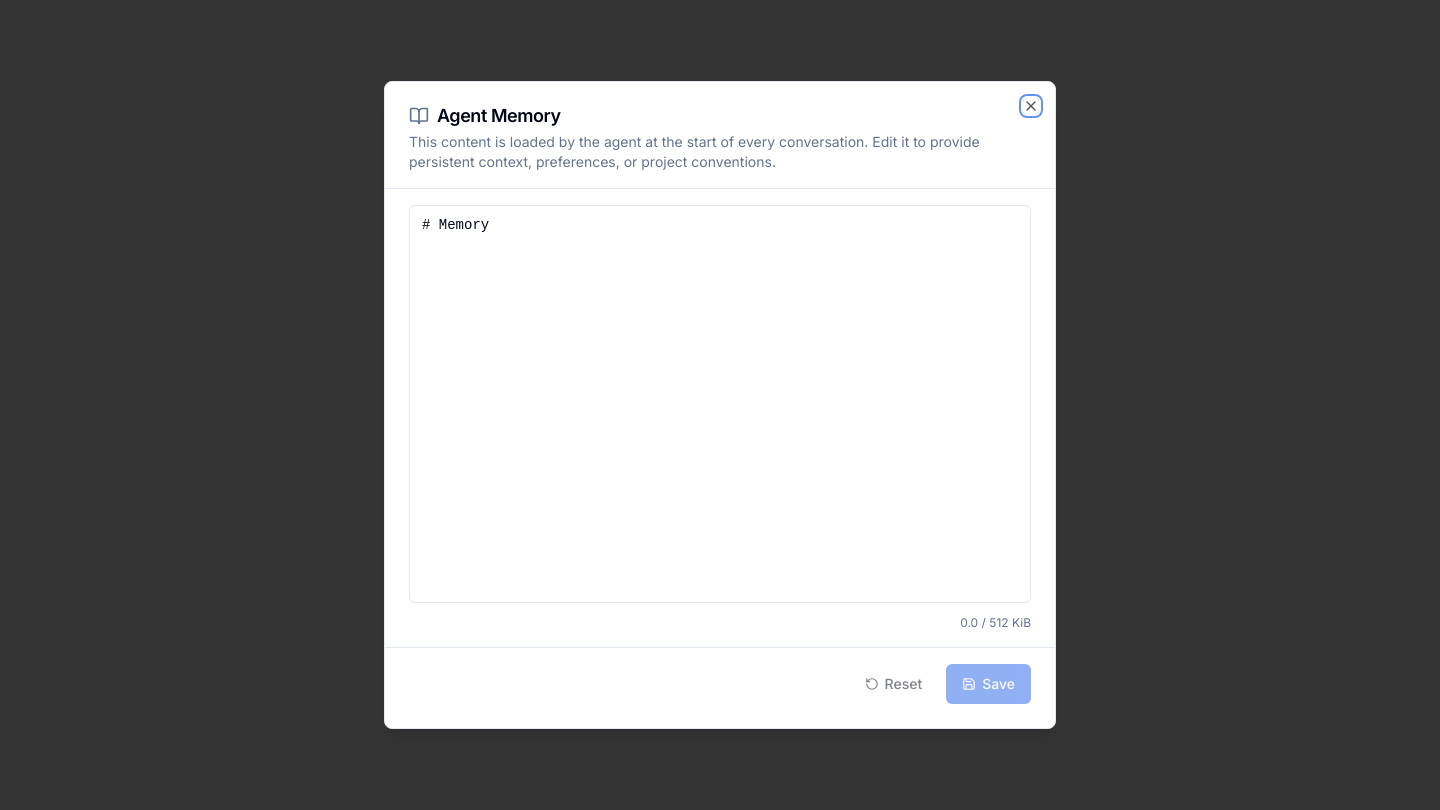
Test: MemoryModal › shows error banner when save fails
The width and height of the screenshot is (1440, 810).
Replace the text in the text box named "agent memory content" with "Changed": (720, 404) [409,205,1031,603]
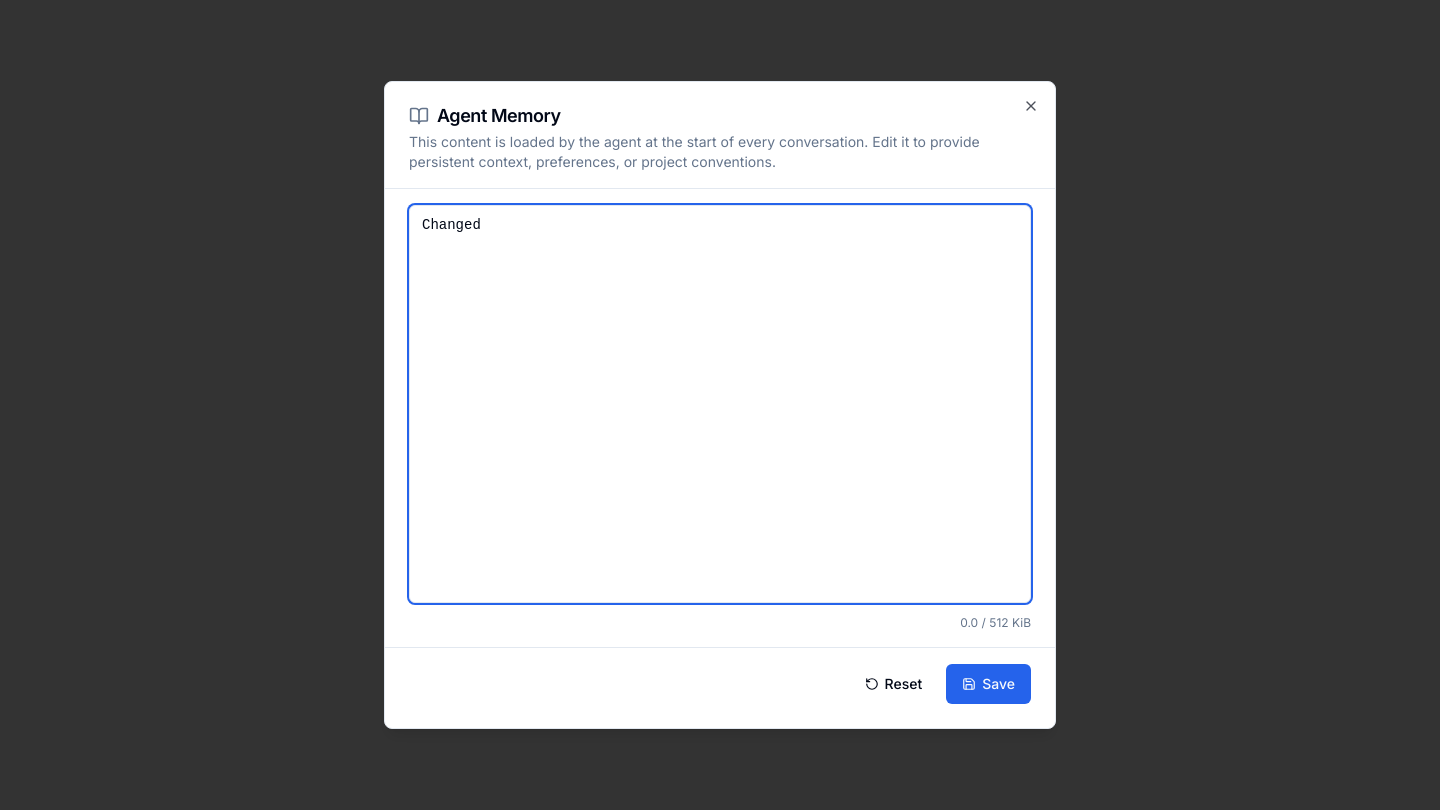
Click the button "Save": (989, 684) [946,664,1031,704]
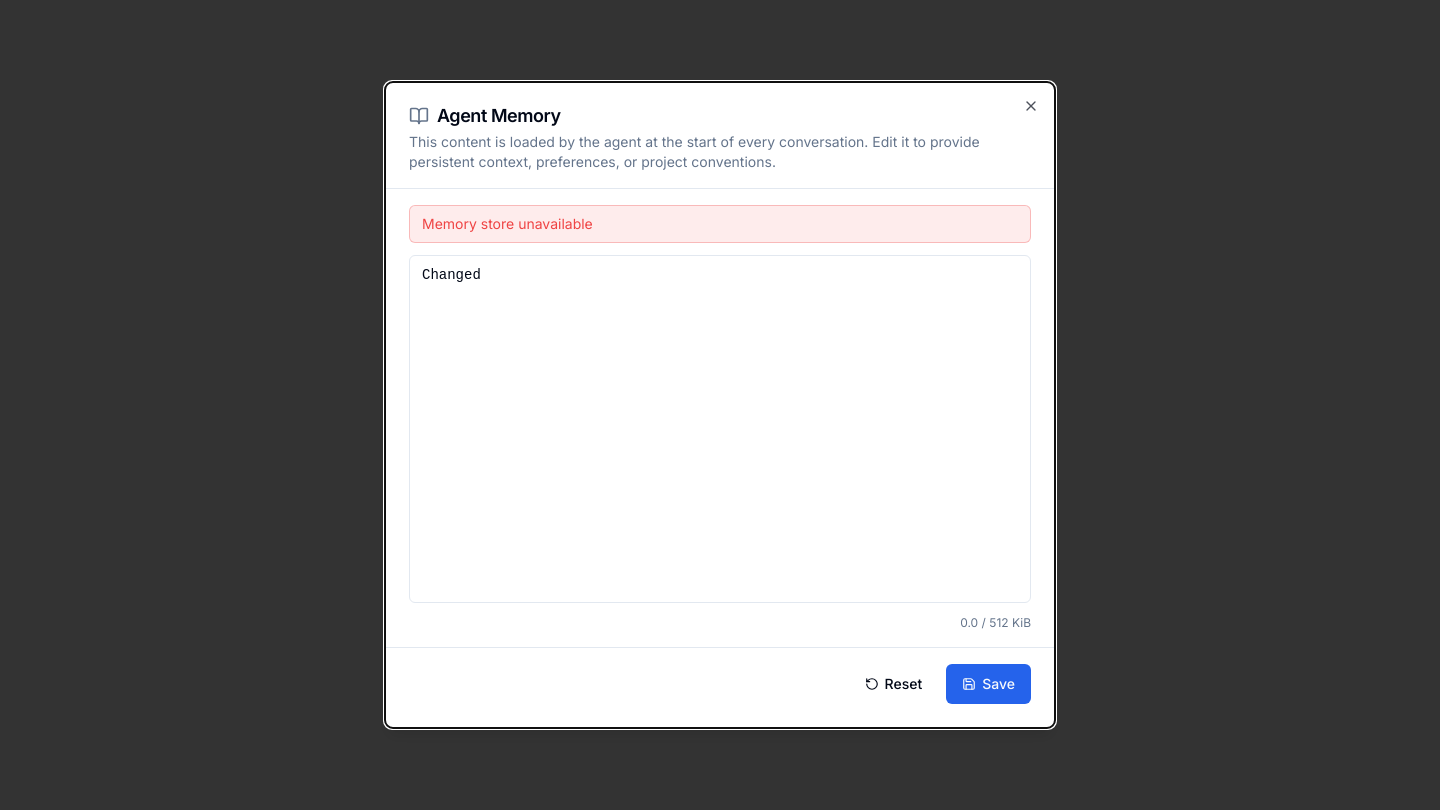
Check: the text "Memory store unavailable" is shown, box [409,205,1031,243]
